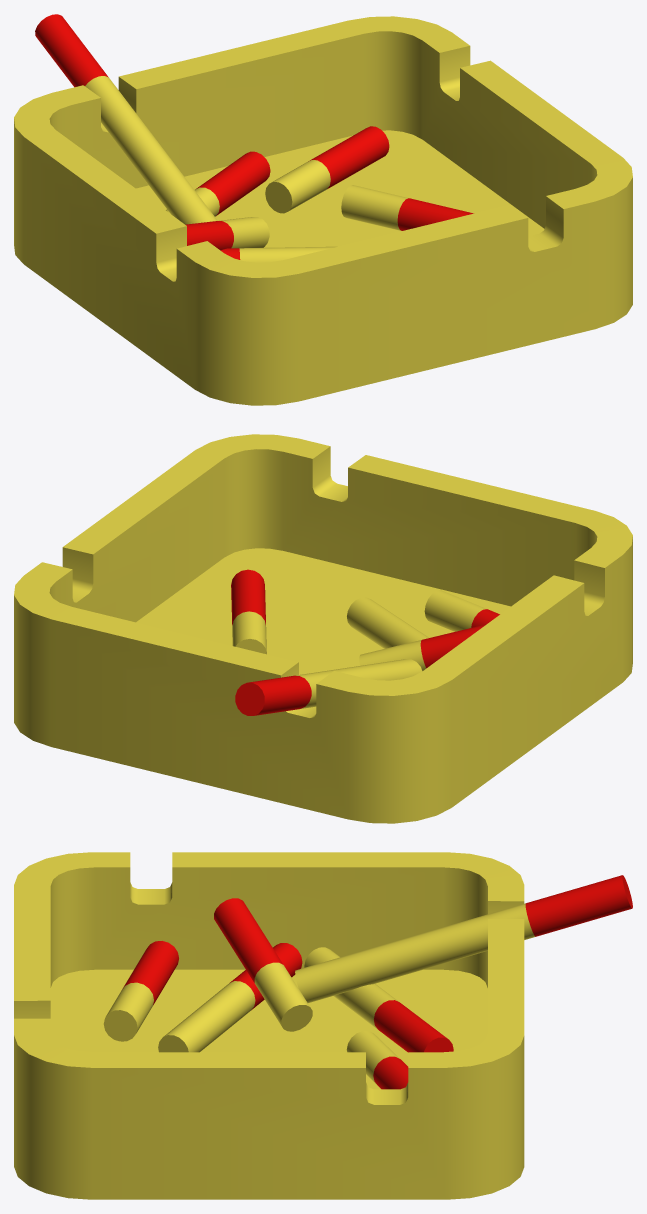
File: ashpot.glb
3 views of the same model, one above another, from view 1: azimuth 30°, elevation 25°; view 2: azimuth 150°, elevation 25°; view 3: azimuth 270°, elevation 25° (orthographic). The views are drawn at different scales.
Visible parts, largest first — view 1: Ashpot, Сigarette, Сigarette.005, Сigarette.003, Сigarette.001, Сigarette.006, Сigarette.002; view 2: Ashpot, Сigarette, Сigarette.003, Сigarette.002, Сigarette.006, Сigarette.004; view 3: Ashpot, Сigarette, Сigarette.006, Сigarette.002, Сigarette.001, Сigarette.004, Сigarette.005.
Part boxes in pixels (bbox=[...]): Ashpot: bbox=[14, 16, 632, 405]; Сigarette: bbox=[35, 14, 217, 224]; Сigarette.005: bbox=[265, 126, 389, 213]; Сigarette.003: bbox=[341, 185, 473, 230]; Сigarette.001: bbox=[166, 151, 270, 216]; Сigarette.006: bbox=[185, 217, 269, 250]; Сigarette.002: bbox=[221, 246, 337, 262]; Ashpot: bbox=[14, 434, 632, 823]; Сigarette: bbox=[235, 659, 422, 715]; Сigarette.003: bbox=[231, 569, 266, 654]; Сigarette.002: bbox=[347, 597, 428, 648]; Сigarette.006: bbox=[359, 624, 486, 670]; Сigarette.004: bbox=[424, 590, 499, 631]; Ashpot: bbox=[14, 852, 524, 1199]; Сigarette: bbox=[295, 875, 632, 1002]; Сigarette.006: bbox=[214, 898, 312, 1031]; Сigarette.002: bbox=[158, 943, 302, 1052]; Сigarette.001: bbox=[304, 947, 453, 1052]; Сigarette.004: bbox=[103, 941, 178, 1041]; Сigarette.005: bbox=[346, 1031, 408, 1089].
Bounding box in the file's own units: 0.2164 × 0.0771 × 0.2625.
